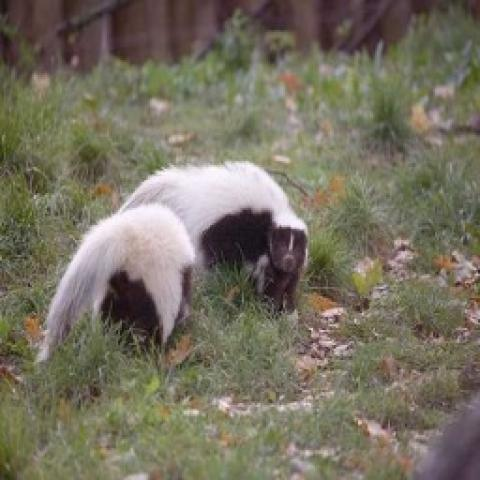small_animal: (119, 157, 309, 314), (40, 202, 202, 362)
